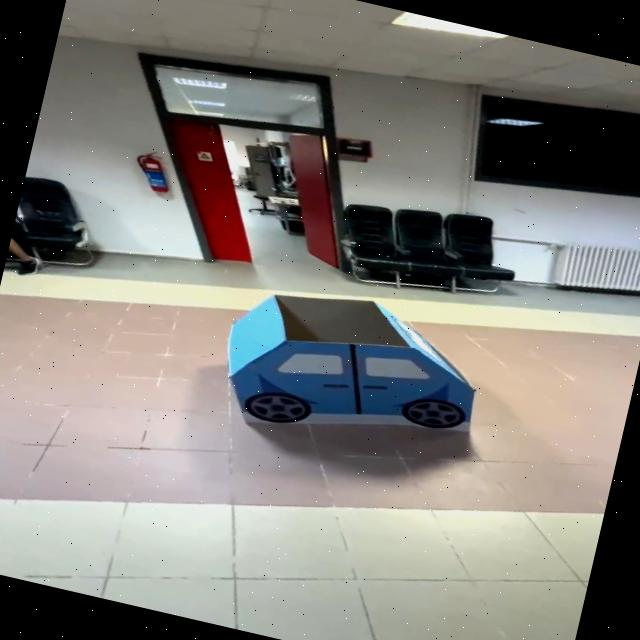blue_car: (175, 257, 523, 485)
